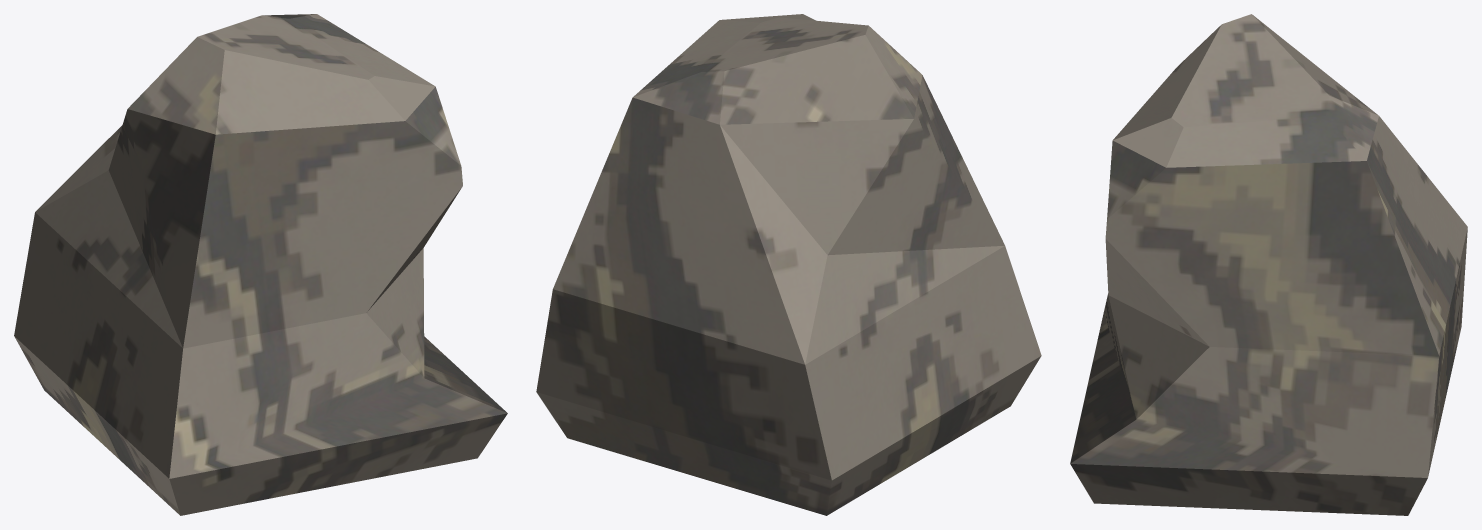
File: Stones_Obstacle_2.fbx
3 views of the same model, side by side, from view 1: azimuth 30°, elevation 25°; view 2: azimuth 150°, elevation 25°; view 3: azimuth 270°, elevation 25° (orthographic). The views are drawn at different scales.
Visible parts, largest first — view 1: Cube.004; view 2: Cube.004; view 3: Cube.004.
Boxes of the visible parts, x1,y1,x2,y2 form: Cube.004: (14, 14, 507, 515); Cube.004: (536, 14, 1041, 515); Cube.004: (1070, 14, 1467, 515).
Size of the model in its own units: 63.75 by 71.13 by 64.77.
